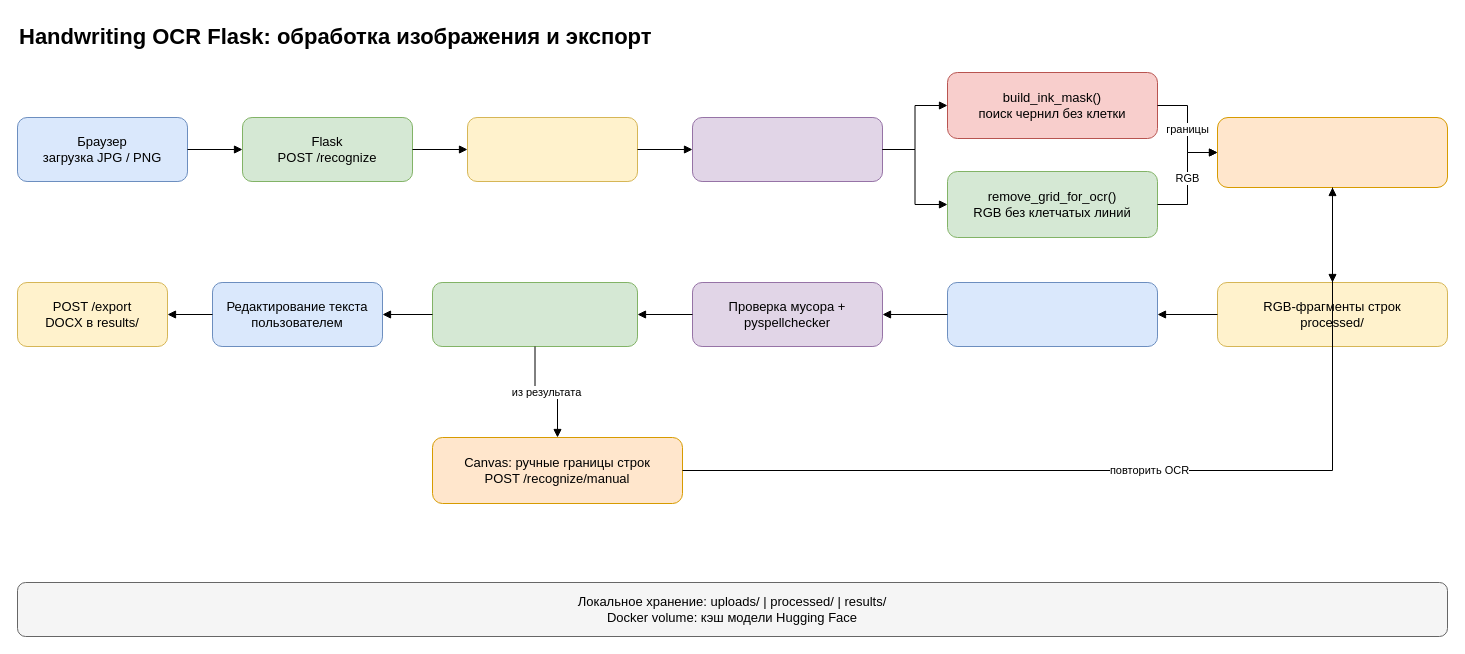
This 1465x654 diagram has some shape labels left out. The shapes that lost their labels are listed below. From the top down, each one's box as (x1, y1, x2, y2) in pixels, then its label:
(466, 116, 638, 182): secure_filename uploads/
(692, 116, 882, 182): preprocess_image() upscale + crop
(1216, 116, 1448, 188): Сегментация строк авто или ручные разделители
(432, 282, 638, 346): result.html оригинал + строки + два текста
(946, 282, 1158, 346): OCRModel TrOCR / OCR_MODEL_NAME
